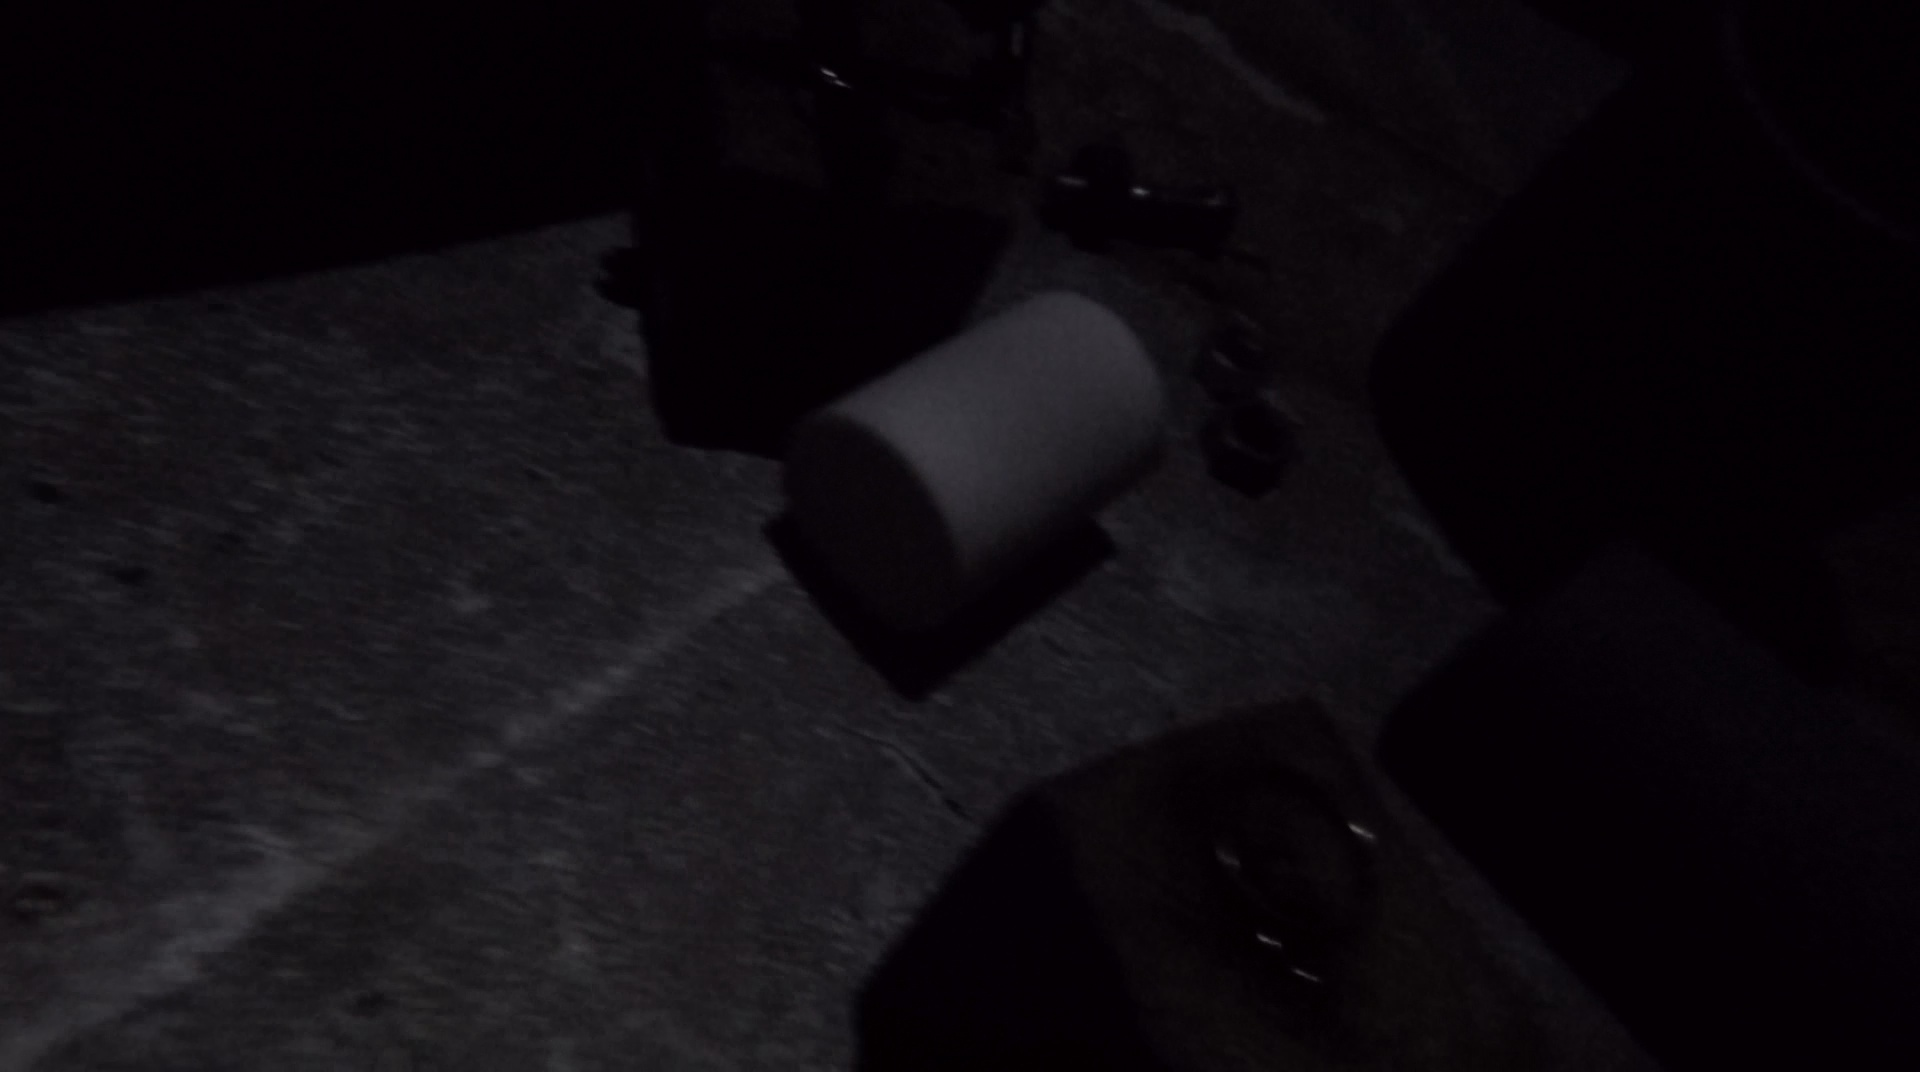bolt: (1048, 174, 1237, 233)
led_block: (853, 698, 1487, 1072), (622, 45, 1015, 454)
nut: (1203, 397, 1296, 496), (1197, 309, 1274, 390)
pipe: (1366, 26, 1920, 603), (1381, 541, 1920, 1017), (781, 285, 1168, 629)
